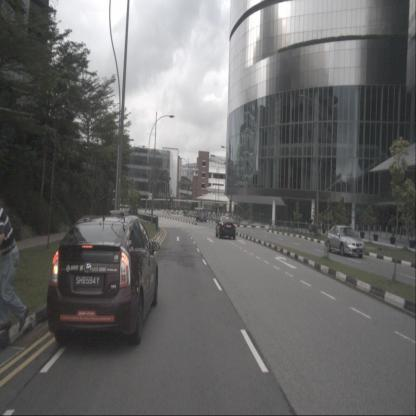human-pedestrian-adult: (0, 193, 29, 333)
vehicle-car: (47, 210, 158, 344), (325, 224, 365, 258), (215, 215, 236, 239)
vehicle-motorcycle: (309, 218, 316, 233)
vehicle-truck: (194, 207, 208, 222)
